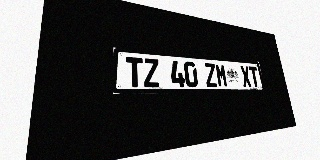0: (183, 61, 198, 87)
4: (170, 60, 185, 87)
M: (215, 64, 228, 87)
T: (126, 57, 144, 87), (248, 66, 260, 87)
X: (240, 66, 252, 87)
Z: (143, 58, 160, 87), (204, 63, 218, 87)
